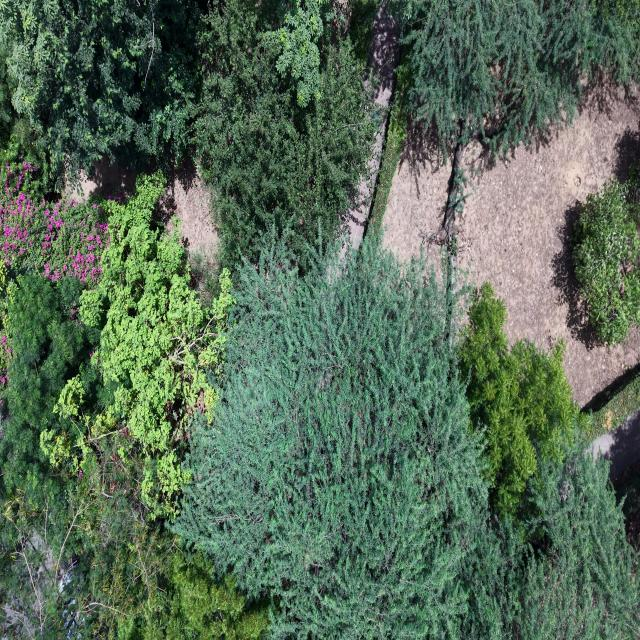DRY_AREA: (458, 84, 639, 405), (458, 87, 639, 405), (347, 6, 399, 247), (348, 8, 399, 247), (160, 164, 217, 267), (170, 178, 217, 263), (588, 411, 639, 479)
VEGETATION_TREE: (0, 0, 639, 639), (0, 237, 636, 639), (1, 243, 636, 637), (172, 242, 636, 639), (173, 238, 485, 639), (1, 176, 224, 633), (0, 0, 378, 266), (0, 0, 377, 266), (0, 176, 198, 636), (0, 273, 181, 637), (459, 285, 639, 639), (52, 175, 231, 517), (1, 280, 169, 636), (68, 175, 231, 517), (1, 431, 267, 639), (79, 176, 231, 513), (194, 1, 378, 266), (395, 0, 639, 155), (0, 0, 200, 185), (448, 450, 639, 639), (459, 283, 577, 511), (501, 451, 639, 639), (0, 272, 110, 507), (0, 147, 108, 280), (573, 167, 639, 344), (140, 550, 267, 639), (365, 63, 409, 239), (265, 1, 323, 105), (581, 366, 639, 441), (0, 59, 34, 162), (614, 459, 639, 557), (0, 263, 14, 410)
